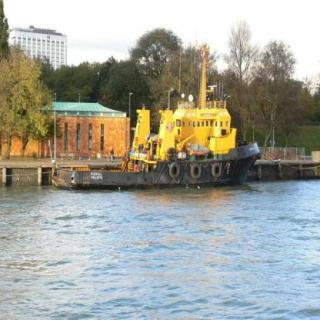Tug Boat: (49, 80, 263, 191)
